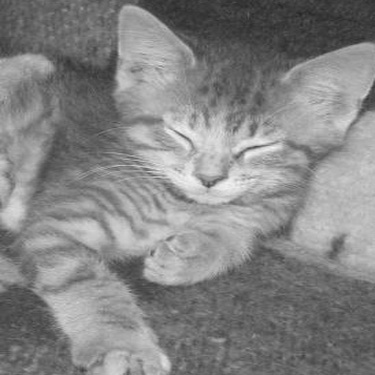cat: (1, 1, 373, 373)
